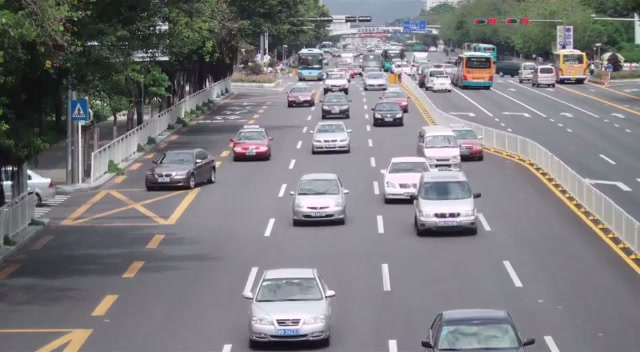bus: (457, 49, 496, 89)
car: (247, 267, 336, 348), (421, 309, 536, 352), (412, 169, 481, 237), (290, 172, 349, 227), (144, 147, 217, 191), (380, 155, 432, 204), (0, 166, 56, 206), (416, 125, 462, 170), (231, 127, 273, 162), (311, 120, 351, 154), (451, 128, 484, 162), (27, 168, 57, 205), (372, 101, 404, 127), (321, 92, 351, 119), (286, 83, 317, 107), (362, 71, 388, 91)
truck: (553, 49, 590, 84), (533, 64, 557, 89)
